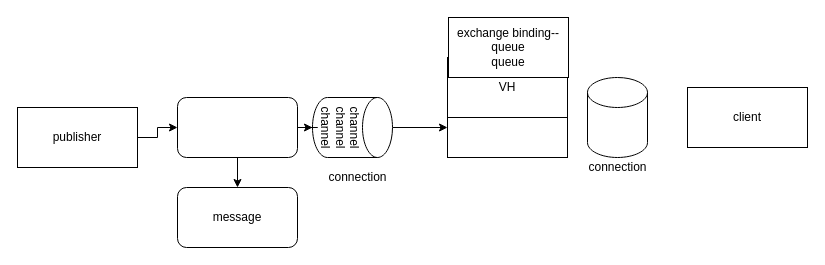
Some shapes in this 825 by 265 pixel diagram are drawn without their labels. The shapes that lost their labels are listed below. From the top down, each one's box as (x1, y1, x2, y2) in pixels, then its label:
(176, 96, 298, 158): routing key
(446, 96, 568, 158): messagerouter
(586, 76, 648, 158): channel channel
